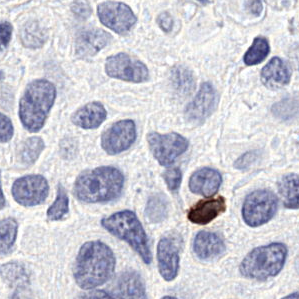Lymphocyte: (187, 197, 228, 226)
